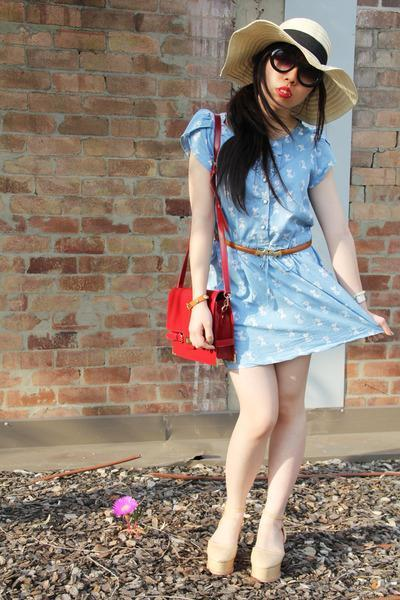bag: (166, 217, 235, 365)
dress: (182, 109, 389, 366)
hat: (217, 19, 357, 131)
shoe: (207, 547, 292, 593)
sunglass: (276, 41, 326, 83)
